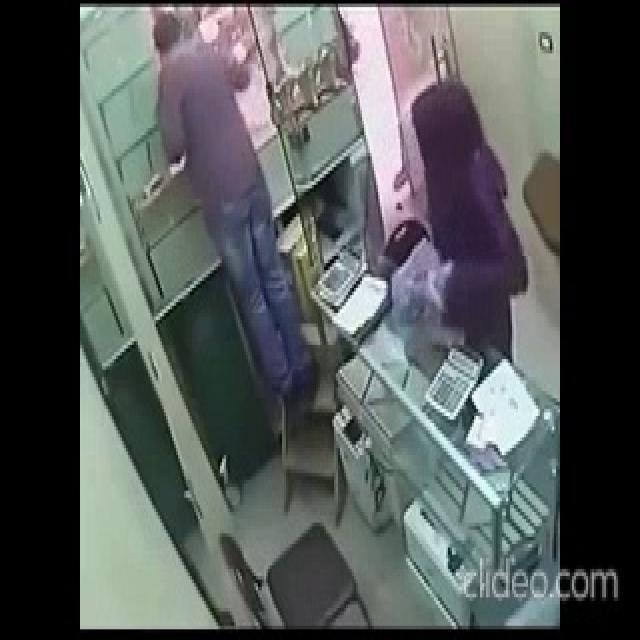Shoplifting: (345, 81, 530, 492)
